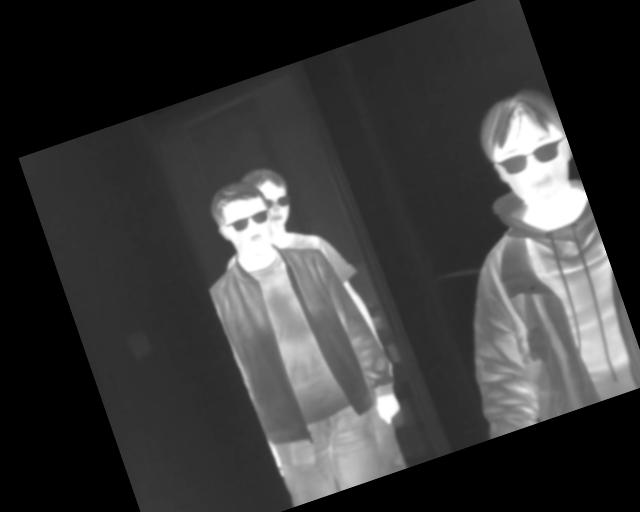face: (468, 79, 585, 222), (206, 174, 281, 263), (243, 161, 299, 234)
